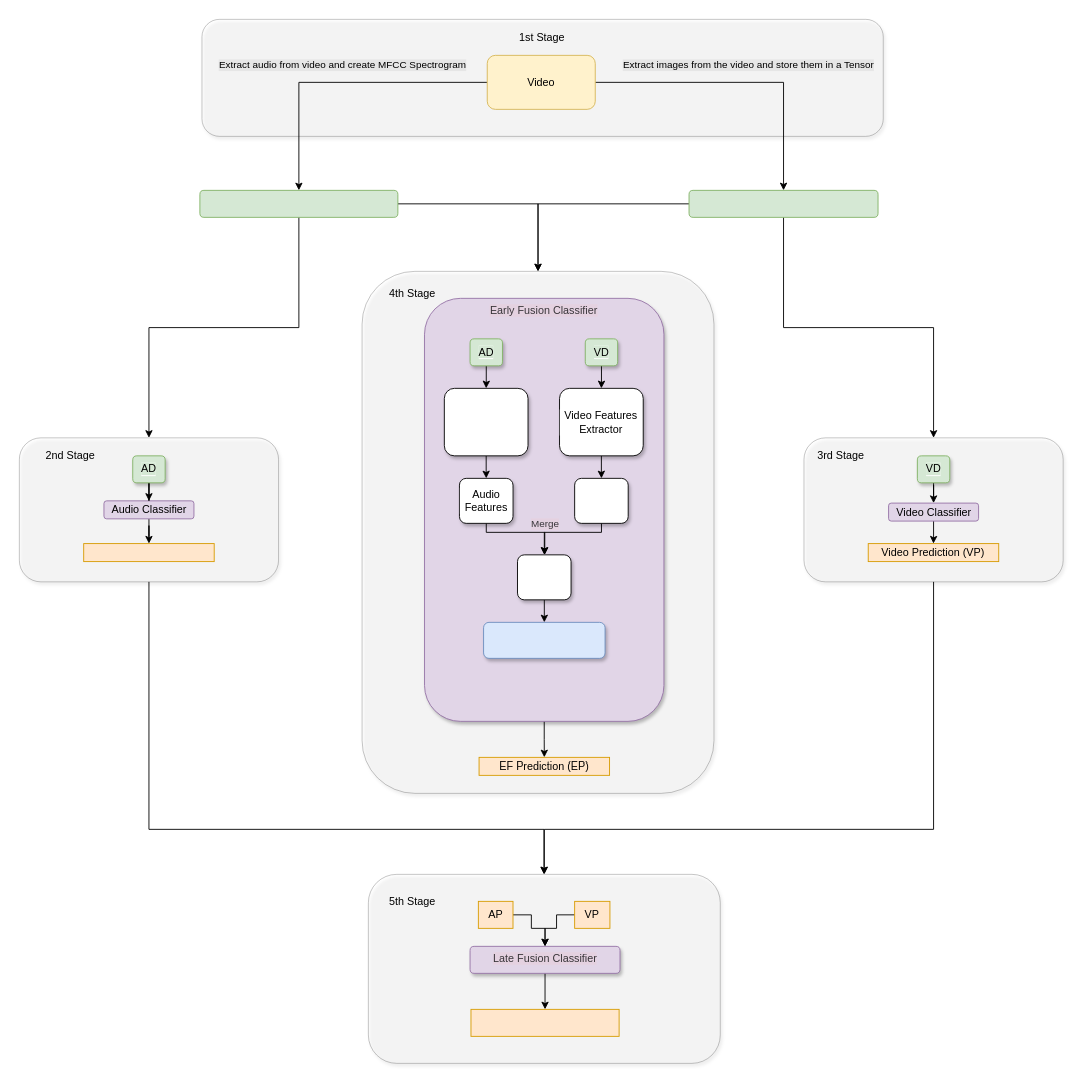
This 1085x1085 diagram has some shape labels left out. The shapes that lost their labels are listed below. From the top down, each one's centre as x and y in pixels, then its label:
At point (298, 203): "Audio Data (AD)".
At point (783, 203): "Video Data (VD)".
At point (486, 423): "Audio Features Extractor".
At point (602, 502): "Video Features".
At point (148, 552): "Audio Prediction (AP)".
At point (544, 578): "Merged Features".
At point (544, 641): "Fully Connected Layer".
At point (544, 1022): "Late Fusion Prediction (LP)".
